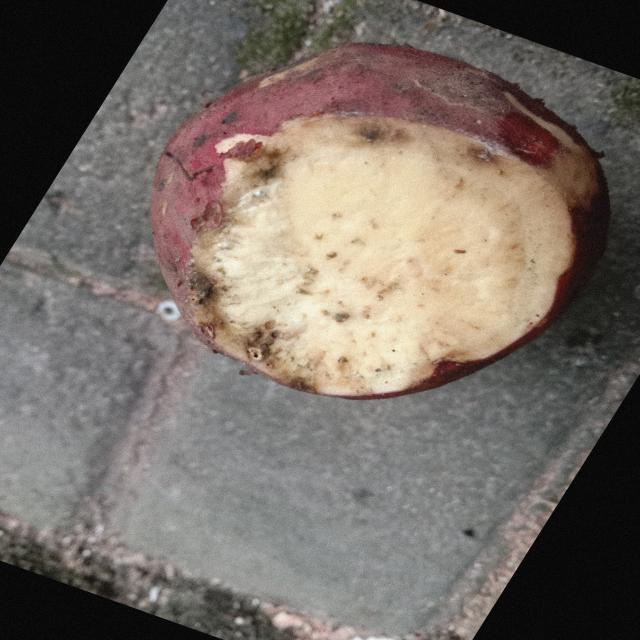Sick Sweet Potato_Tuber Rot: (193, 116, 573, 395)
